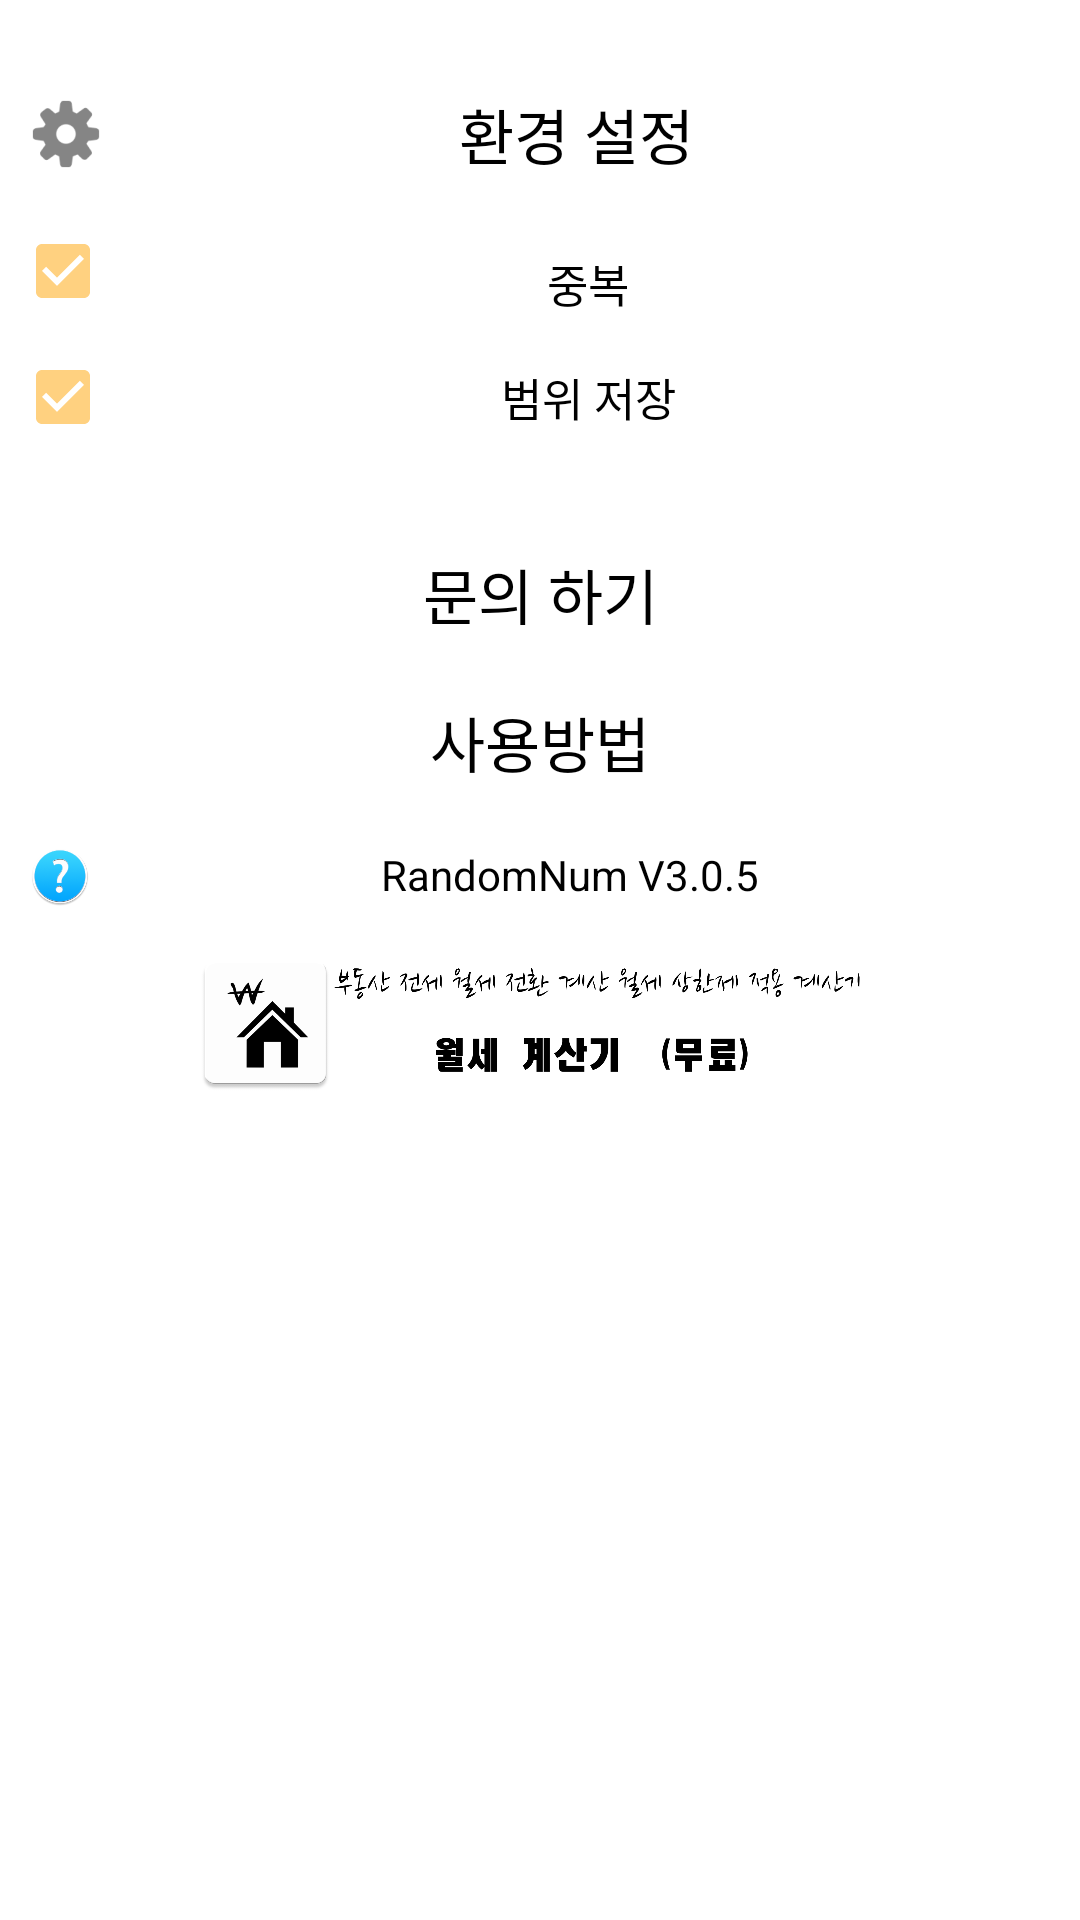

Icon bounding boxes for this 1080 x 1920 phone screenshot, format (x1,y1,x2,y2):
setting: (33,101,99,167)
